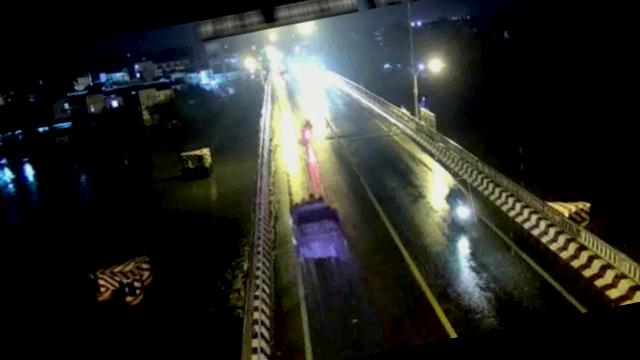Bike: (442, 176, 477, 228), (295, 115, 318, 148)
